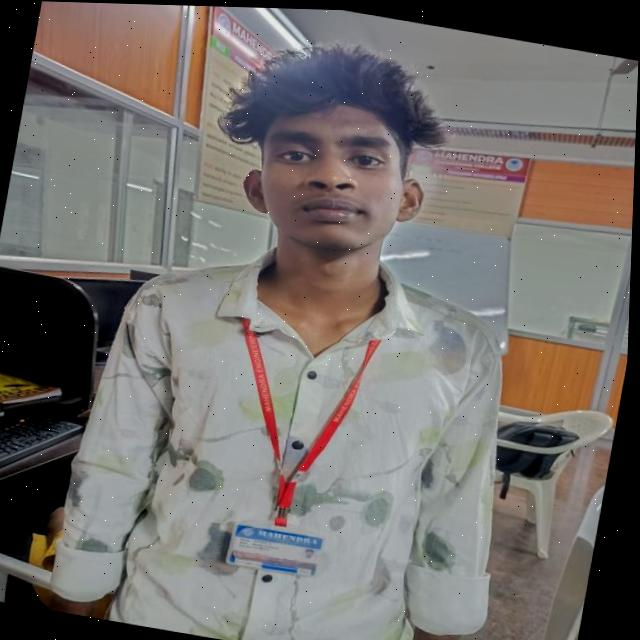id_card: (193, 298, 389, 586)
